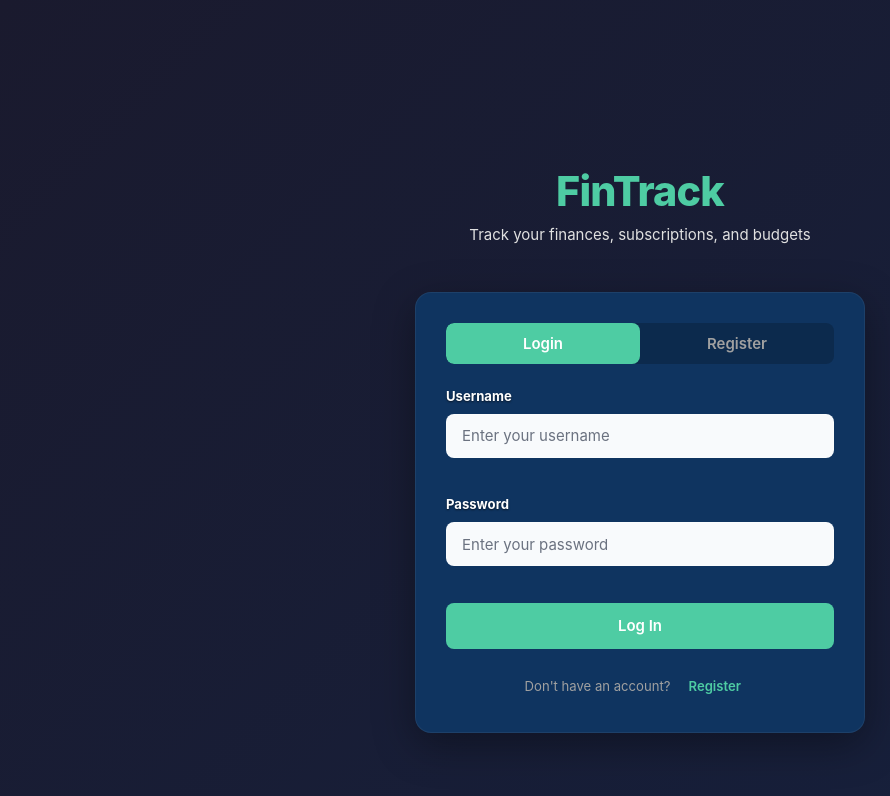
Test: Registration › shows server error message when registration is rejected
Click the 1st button "Register" at coordinates (737, 344), box [640,323,834,364]
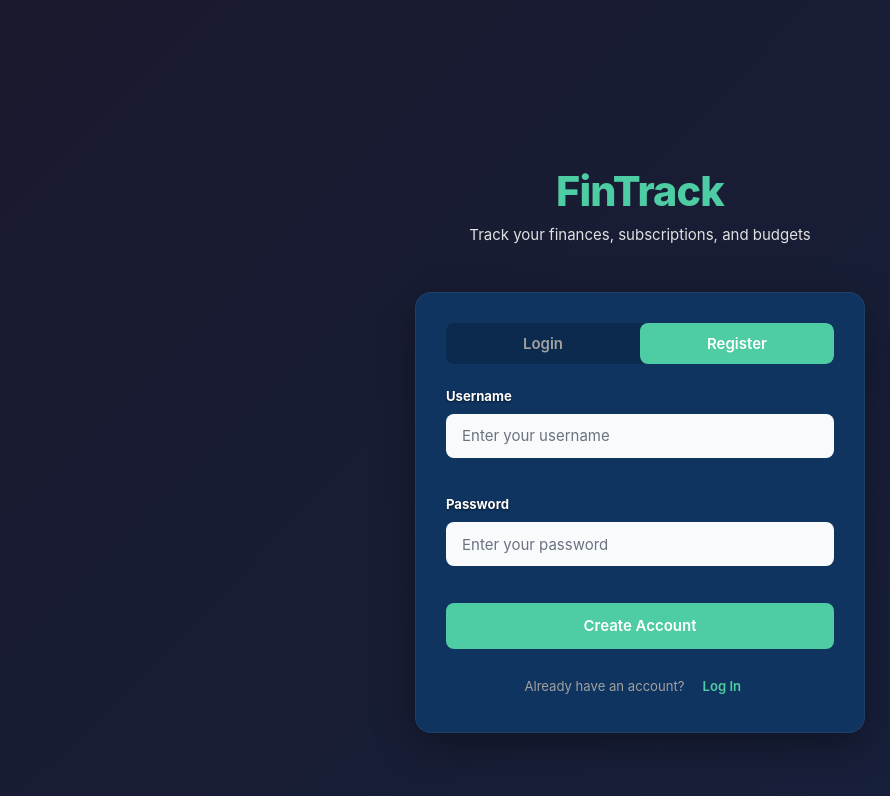
Type "newuser" into the field labelled "Username" at coordinates (640, 436), box [446,414,834,458]
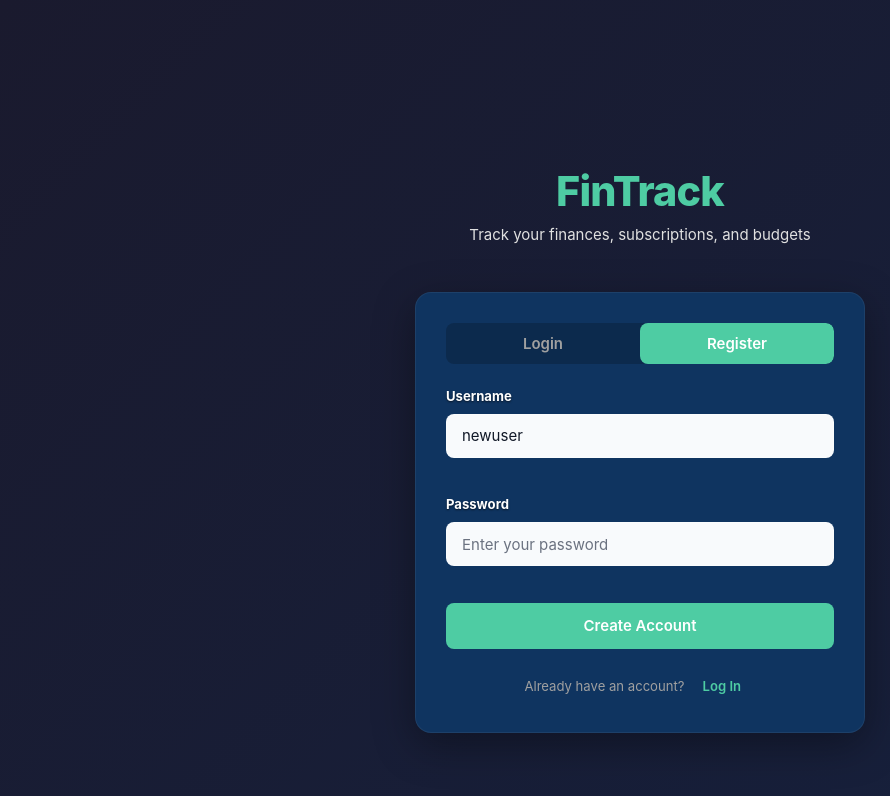
Type "short" into the password field labelled "Password" at coordinates (640, 544), box [446,522,834,566]
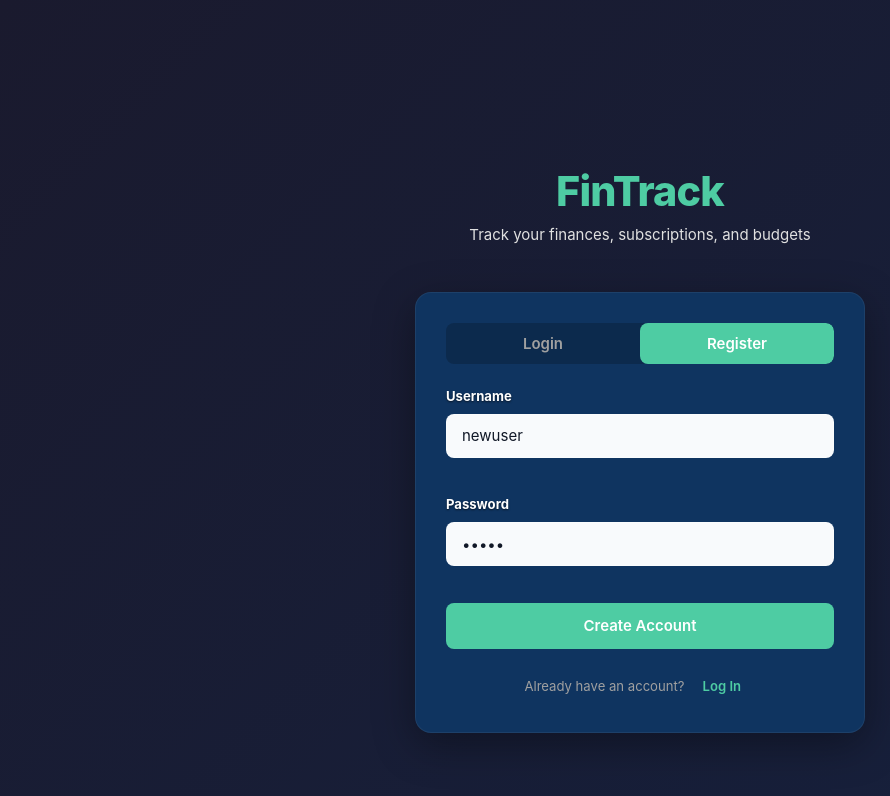
Submit the form from the button "Create Account", box [446,603,834,649]
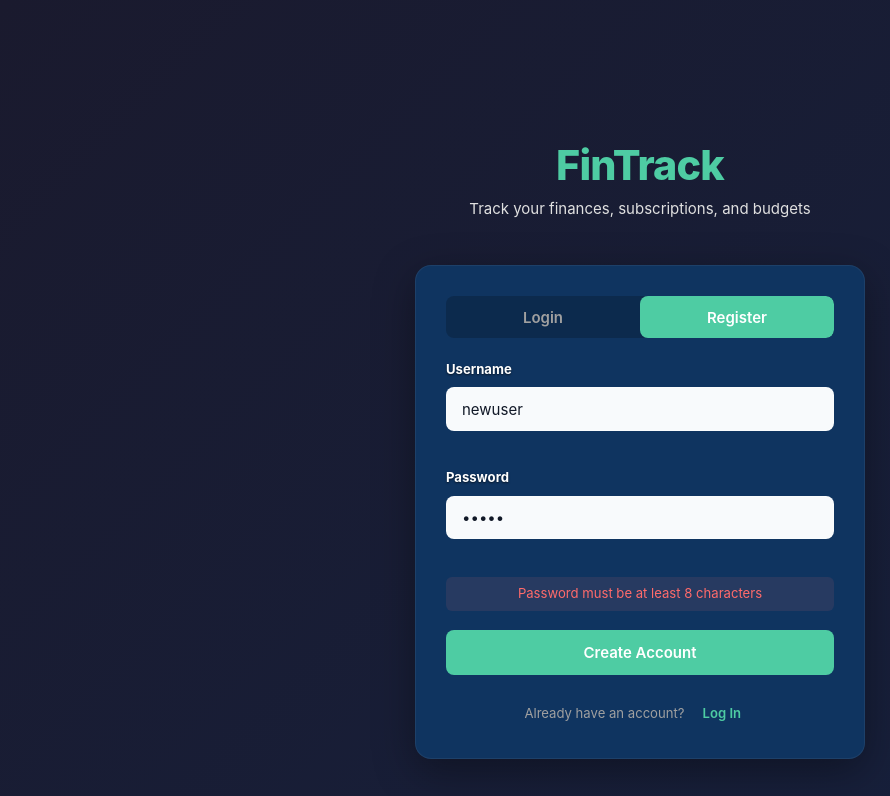
Result: the text "Password must be at least 8 characters" is shown at [446,577,834,611]
